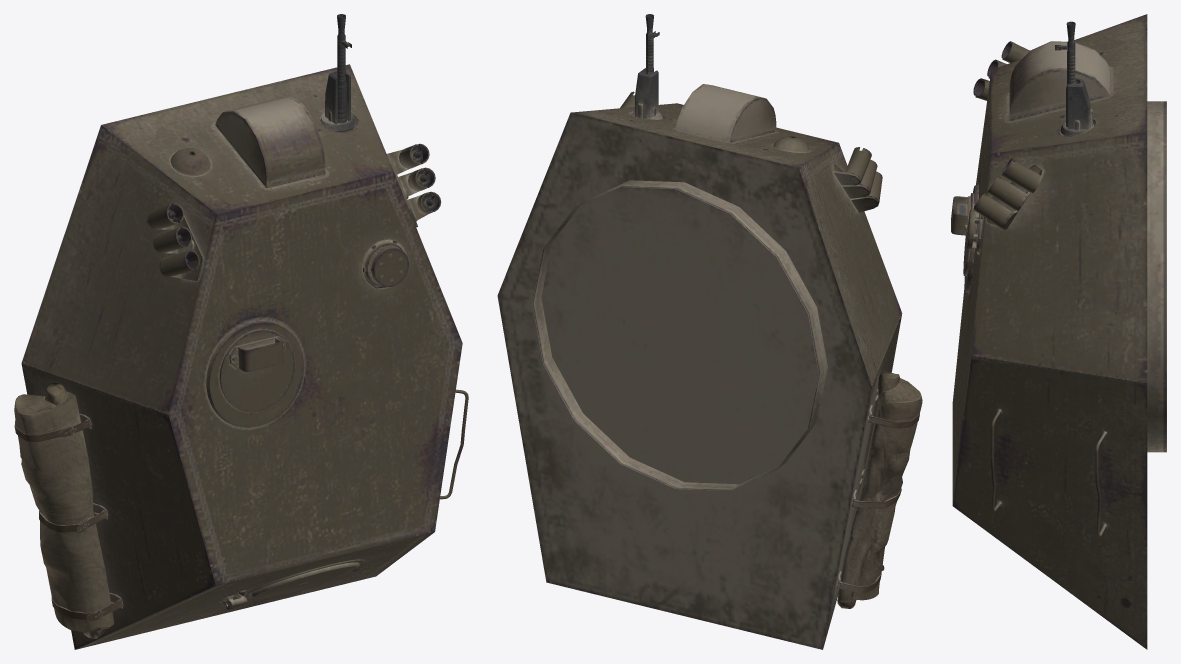
Rendered from Turret_01.glb.
3 renders of one model, left to right at view 1: azimuth 30°, elevation 25°; view 2: azimuth 150°, elevation 25°; view 3: azimuth 270°, elevation 25°, orthographic. The views are drawn at different scales.
Parts seen in each view (by area): view 1: set_0_group_0; view 2: set_0_group_0; view 3: set_0_group_0.
Boxes of the visible parts, left/top/right/bottom form: set_0_group_0: left=14, top=14, right=468, bottom=649; set_0_group_0: left=497, top=14, right=922, bottom=649; set_0_group_0: left=951, top=14, right=1166, bottom=649.
Size of the model in its own units: 2.23 by 2.97 by 0.9811.
Materials: 1 (1 with a texture image).
